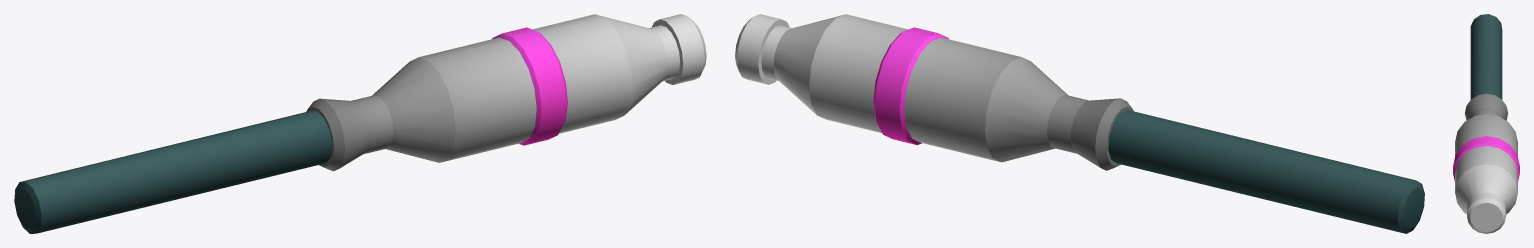
The model's file is Launchershell_GL6.fbx.
3 renders of one model, left to right at view 1: azimuth 30°, elevation 25°; view 2: azimuth 150°, elevation 25°; view 3: azimuth 270°, elevation 25°, orthographic. The views are drawn at different scales.
Parts seen in each view (by area): view 1: Launchershell_GL6; view 2: Launchershell_GL6; view 3: Launchershell_GL6.
Boxes of the visible parts, x1,y1,x2,y2 form: Launchershell_GL6: [14, 14, 706, 233]; Launchershell_GL6: [735, 14, 1424, 233]; Launchershell_GL6: [1453, 14, 1519, 233].
Size of the model in its own units: 45.07 by 6.72 by 6.72.
